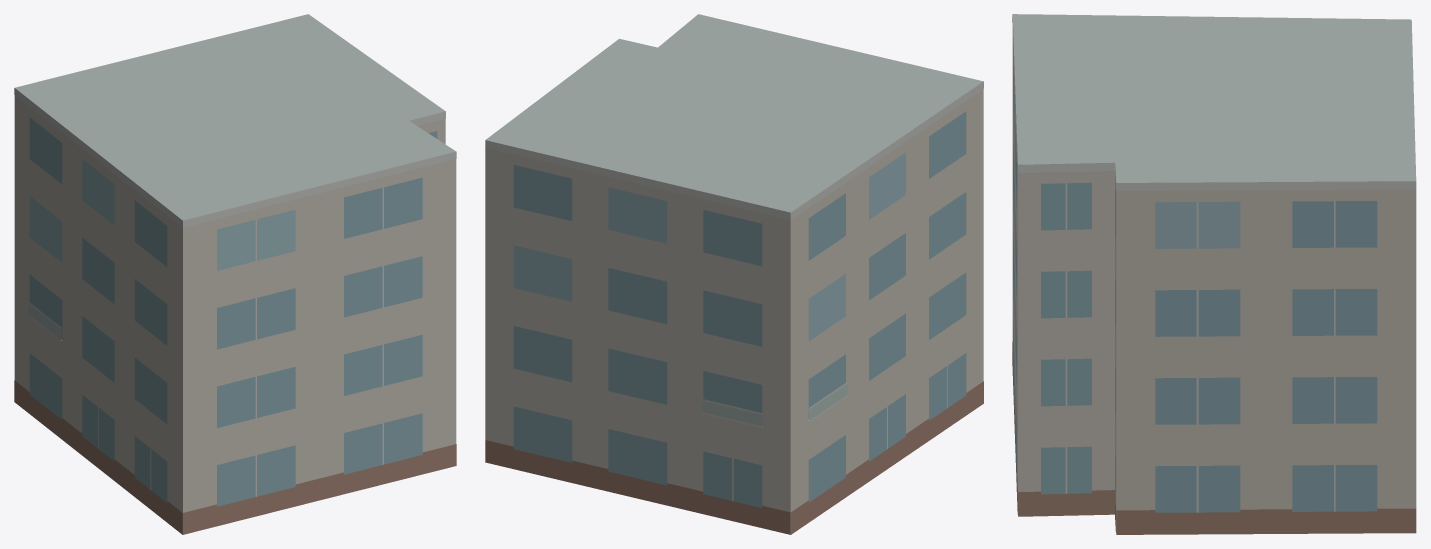
File: survey-upis-32736616.glb
3 renders of one model, left to right at view 1: azimuth 30°, elevation 25°; view 2: azimuth 150°, elevation 25°; view 3: azimuth 270°, elevation 25°, orthographic. The views are drawn at different scales.
Parts seen in each view (by area): view 1: survey-upis-32736616.tmp; view 2: survey-upis-32736616.tmp; view 3: survey-upis-32736616.tmp.
Part boxes in pixels (x1,y1,x2,y2): survey-upis-32736616.tmp: (14,14,456,534); survey-upis-32736616.tmp: (485,14,983,534); survey-upis-32736616.tmp: (1012,14,1416,534).
Bounding box in the file's own units: 10.82 × 10.5 × 10.93.
